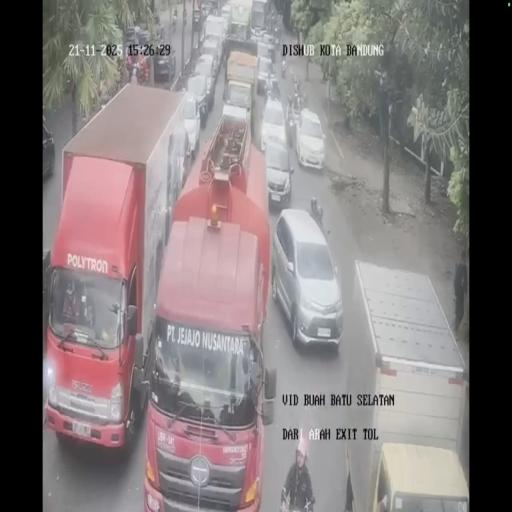car: (271, 208, 342, 350), (295, 107, 325, 170), (222, 81, 254, 134), (170, 113, 190, 197), (185, 71, 211, 131), (260, 96, 286, 155), (152, 42, 176, 82), (199, 40, 221, 82), (256, 53, 274, 94), (124, 27, 140, 55), (262, 31, 276, 57), (200, 0, 218, 19), (220, 2, 232, 29)
motorcycle: (292, 88, 302, 118), (171, 14, 177, 32), (281, 60, 286, 78)
truck: (45, 81, 202, 454), (342, 262, 468, 509), (192, 4, 203, 31)
